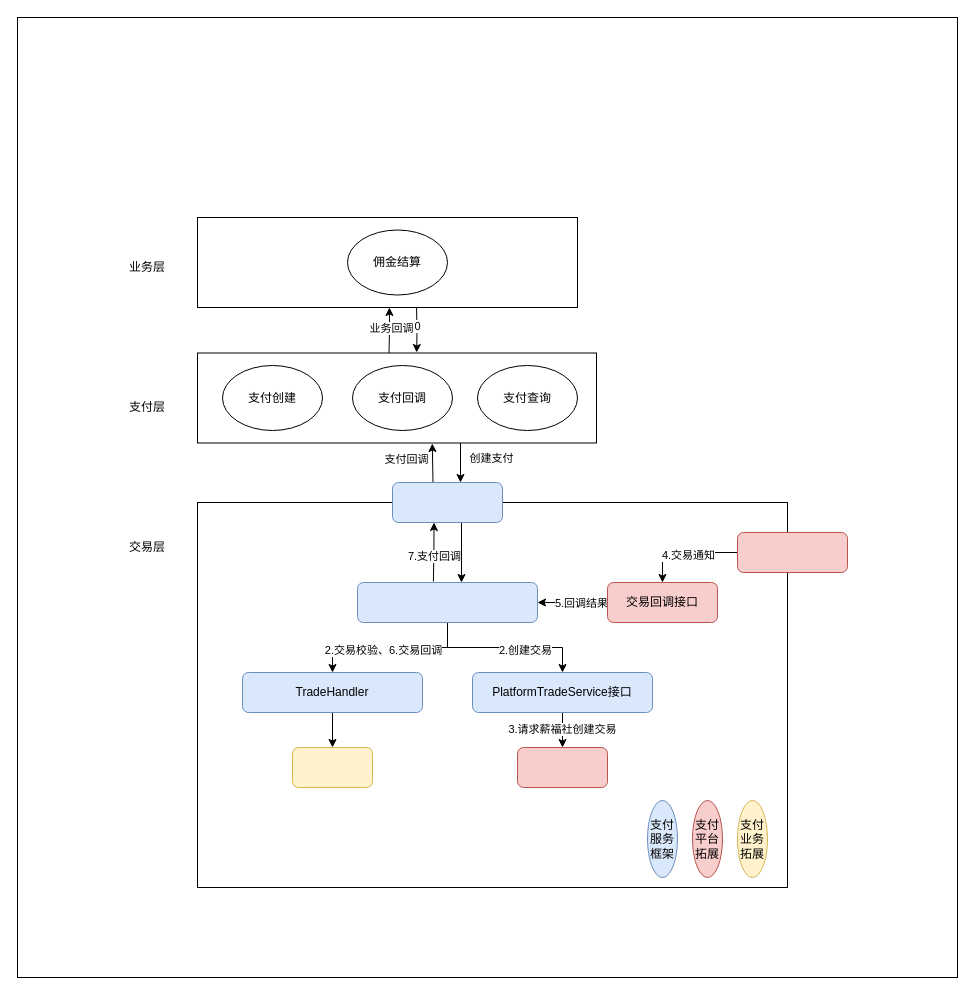
Image size: 975x995. Some labels were removed from this diagram. The shapes that lost their labels are listed below. From the top down, each one's centre as x and y in pixels, then its label:
At (x=447, y=502): "业务交易服务".
At (x=792, y=552): "薪福社交易回调".
At (x=447, y=602): "BusinessTradeService".
At (x=332, y=767): "结算支付".
At (x=562, y=767): "薪福社交易实现".
